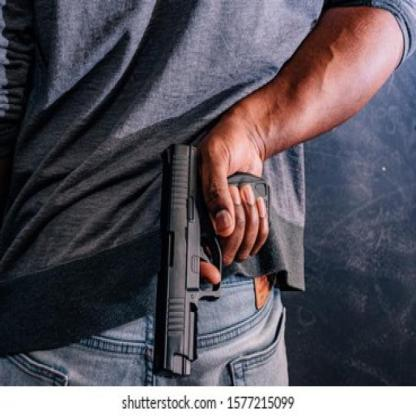handgun: (156, 143, 276, 374)
